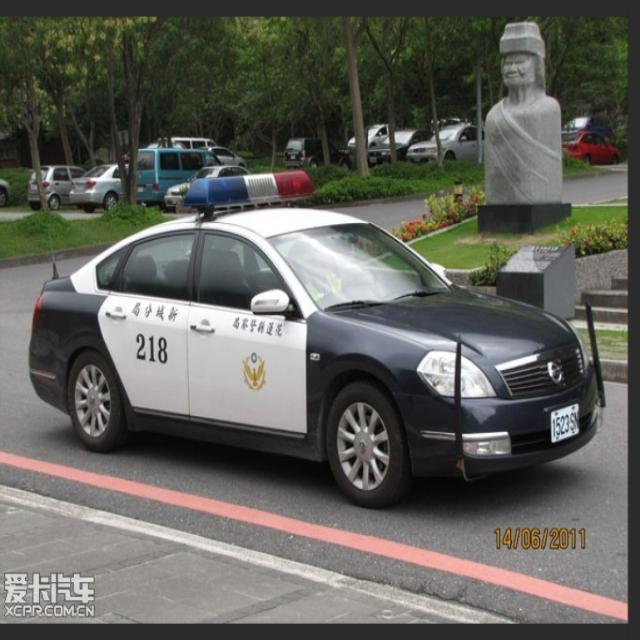police_car: (28, 170, 602, 508)
